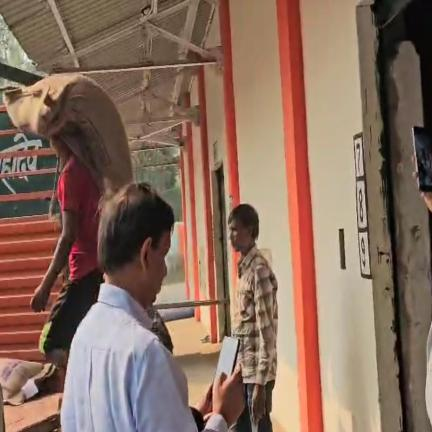Zone-Counting: (6, 75, 132, 359)
